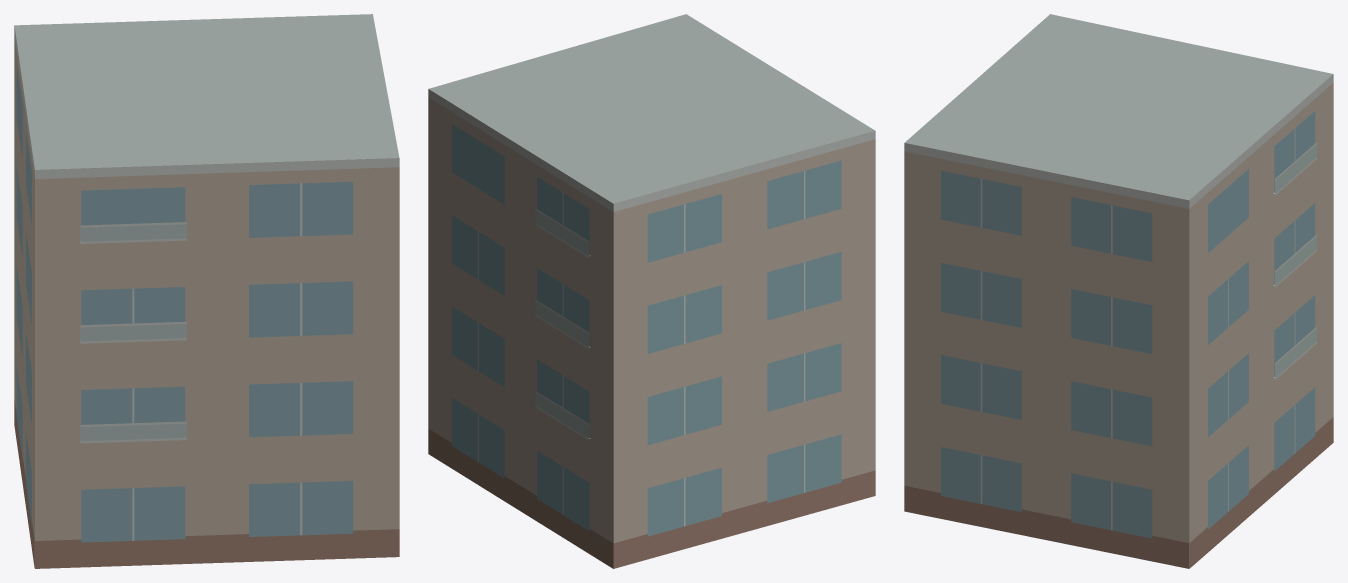
The model's file is survey-upis-32727146.glb.
The picture shows the model from 3 angles, left to right: view 1: azimuth 30°, elevation 25°; view 2: azimuth 150°, elevation 25°; view 3: azimuth 270°, elevation 25°; orthographic projection. The views are drawn at different scales.
Visible parts, largest first — view 1: survey-upis-32727146.tmp; view 2: survey-upis-32727146.tmp; view 3: survey-upis-32727146.tmp.
Boxes of the visible parts, x1,y1,x2,y2 form: survey-upis-32727146.tmp: (14, 14, 399, 568); survey-upis-32727146.tmp: (428, 14, 875, 568); survey-upis-32727146.tmp: (904, 14, 1333, 568).
Bounding box in the file's own units: 11.5 × 10.6 × 11.2.
